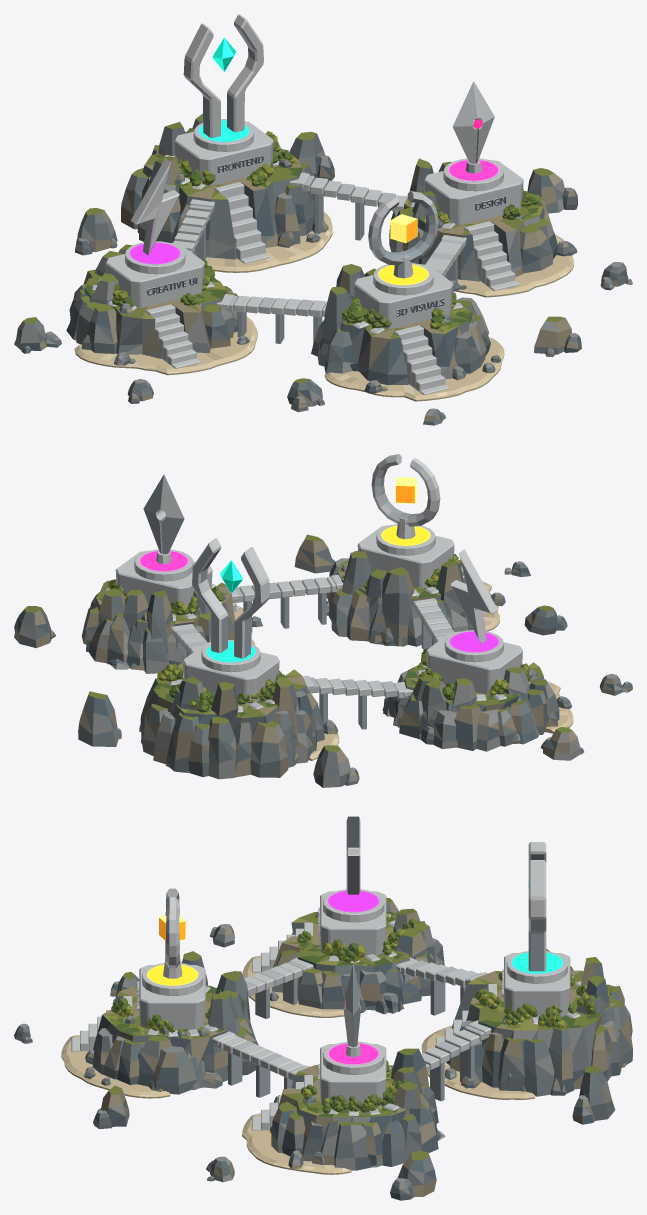
The model's file is tech_grove_web.glb.
The picture shows the model from 3 angles, top to bottom: view 1: azimuth 30°, elevation 25°; view 2: azimuth 150°, elevation 25°; view 3: azimuth 270°, elevation 25°; orthographic projection. The views are drawn at different scales.
Visible parts, largest first — view 1: Static_WebGL, Static_Frontend, Static_Creative, Static_Design, Static_Surrounding_Rocks, Static_Bridges, Statue_Frontend, Statue_WebGL, Statue_Design, Statue_Creative, Glow_Creative_Inset, Gem_WebGL_Core (+2 smaller); view 2: Static_Frontend, Static_Creative, Static_WebGL, Static_Design, Static_Surrounding_Rocks, Static_Bridges, Statue_Frontend, Statue_WebGL, Statue_Design, Statue_Creative, Glow_Creative_Inset, Glow_Design_Inset (+2 smaller); view 3: Static_Frontend, Static_Design, Static_WebGL, Static_Creative, Static_Bridges, Static_Surrounding_Rocks, Statue_Frontend, Statue_WebGL, Statue_Design, Statue_Creative, Glow_Creative_Inset, Glow_Design_Inset (+2 smaller).
Boxes of the visible parts, x1=… form: Static_WebGL: x1=311, y1=262, x2=504, y2=401; Static_Frontend: x1=121, y1=113, x2=332, y2=272; Static_Creative: x1=66, y1=241, x2=257, y2=375; Static_Design: x1=389, y1=158, x2=573, y2=297; Static_Surrounding_Rocks: x1=14, y1=131, x2=632, y2=425; Static_Bridges: x1=173, y1=172, x2=466, y2=343; Statue_Frontend: x1=183, y1=14, x2=263, y2=137; Statue_WebGL: x1=368, y1=191, x2=438, y2=278; Statue_Design: x1=452, y1=82, x2=494, y2=173; Statue_Creative: x1=131, y1=158, x2=179, y2=255; Glow_Creative_Inset: x1=130, y1=243, x2=179, y2=264; Gem_WebGL_Core: x1=390, y1=214, x2=417, y2=242; Static_Frontend: x1=139, y1=640, x2=339, y2=779; Static_Creative: x1=382, y1=630, x2=573, y2=751; Static_WebGL: x1=326, y1=524, x2=499, y2=646; Static_Design: x1=81, y1=549, x2=255, y2=673; Static_Surrounding_Rocks: x1=14, y1=534, x2=632, y2=787; Static_Bridges: x1=170, y1=574, x2=453, y2=729; Statue_Frontend: x1=192, y1=538, x2=270, y2=658; Statue_WebGL: x1=371, y1=454, x2=440, y2=539; Statue_Design: x1=143, y1=474, x2=184, y2=563; Statue_Creative: x1=450, y1=549, x2=497, y2=643; Glow_Creative_Inset: x1=450, y1=631, x2=498, y2=652; Glow_Design_Inset: x1=140, y1=551, x2=187, y2=571; Static_Frontend: x1=421, y1=949, x2=632, y2=1099; Static_Design: x1=242, y1=1041, x2=445, y2=1174; Static_WebGL: x1=61, y1=951, x2=258, y2=1098; Static_Creative: x1=242, y1=889, x2=444, y2=1017; Static_Bridges: x1=212, y1=957, x2=491, y2=1101; Static_Surrounding_Rocks: x1=14, y1=897, x2=615, y2=1200; Statue_Frontend: x1=528, y1=842, x2=546, y2=971; Statue_WebGL: x1=163, y1=888, x2=181, y2=978; Statue_Design: x1=343, y1=964, x2=361, y2=1056; Statue_Creative: x1=346, y1=816, x2=360, y2=894; Glow_Creative_Inset: x1=328, y1=891, x2=378, y2=912; Glow_Design_Inset: x1=328, y1=1043, x2=378, y2=1064.
Bounding box in the file's own units: 22.46 × 7.71 × 20.87.
